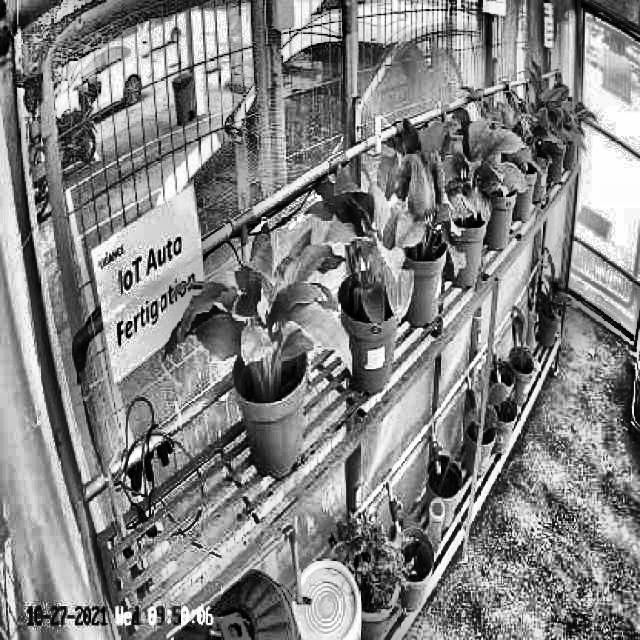plants: (164, 225, 353, 393), (318, 171, 417, 331), (426, 110, 528, 235), (378, 138, 464, 277)
